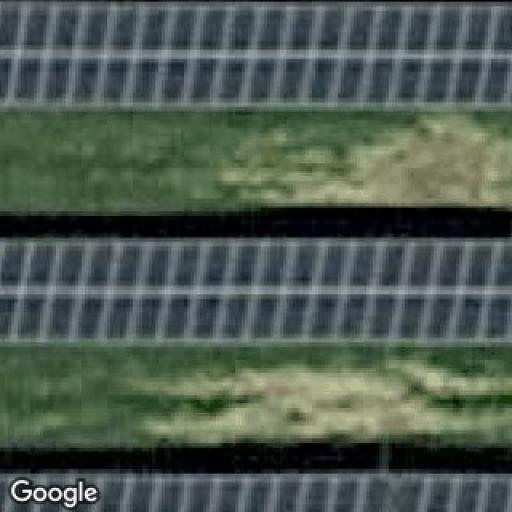solar-panel: (0, 0, 512, 114), (0, 238, 512, 350), (0, 478, 512, 512)
